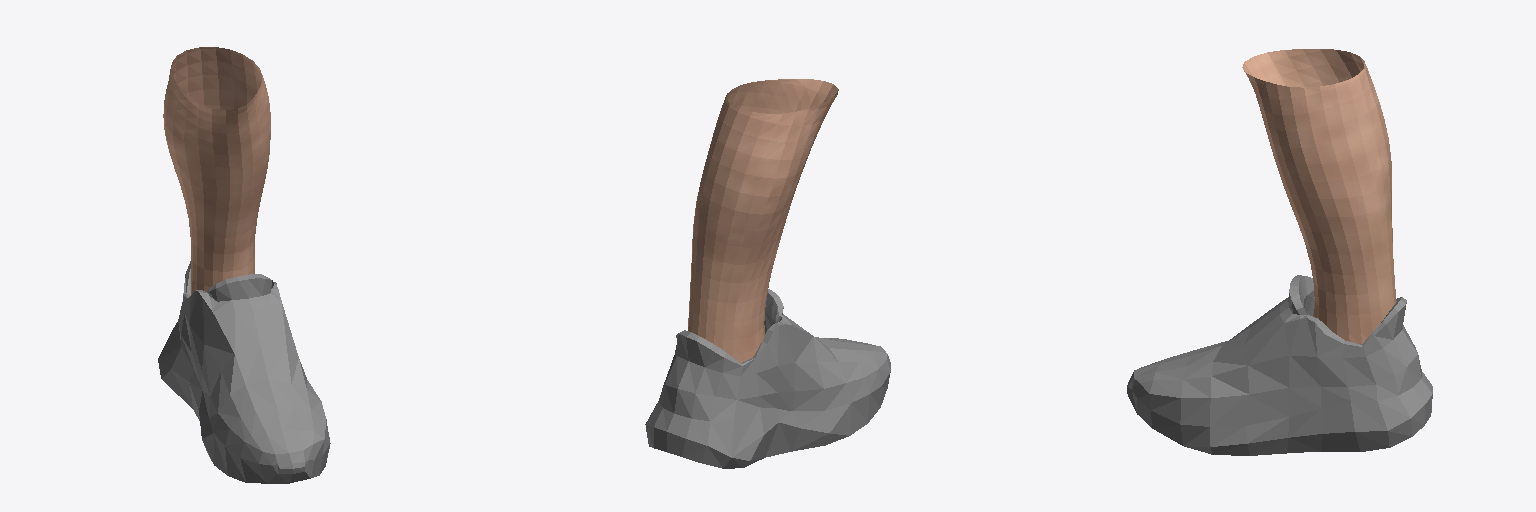
3 views of the same model, side by side, from view 1: azimuth 30°, elevation 25°; view 2: azimuth 150°, elevation 25°; view 3: azimuth 270°, elevation 25° (orthographic).
Parts seen in each view (by area): view 1: pantorillaIZQ001; view 2: pantorillaIZQ001; view 3: pantorillaIZQ001.
Boxes of the visible parts, x1,y1,x2,y2 form: pantorillaIZQ001: [158, 47, 330, 483]; pantorillaIZQ001: [645, 79, 890, 468]; pantorillaIZQ001: [1127, 49, 1432, 455].
Bounding box in the file's own units: 0.1146 × 0.2998 × 0.2296.
Materials: 2 (1 with a texture image).